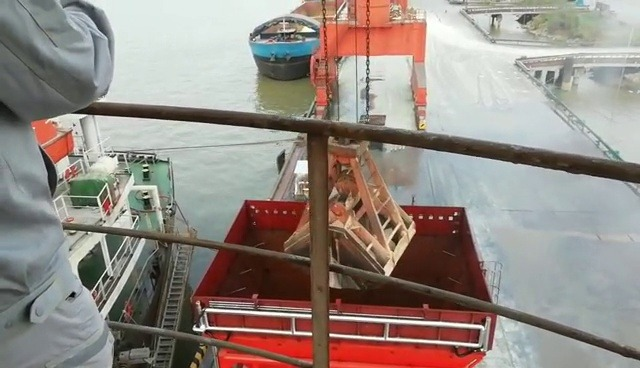grab: (276, 122, 419, 283)
